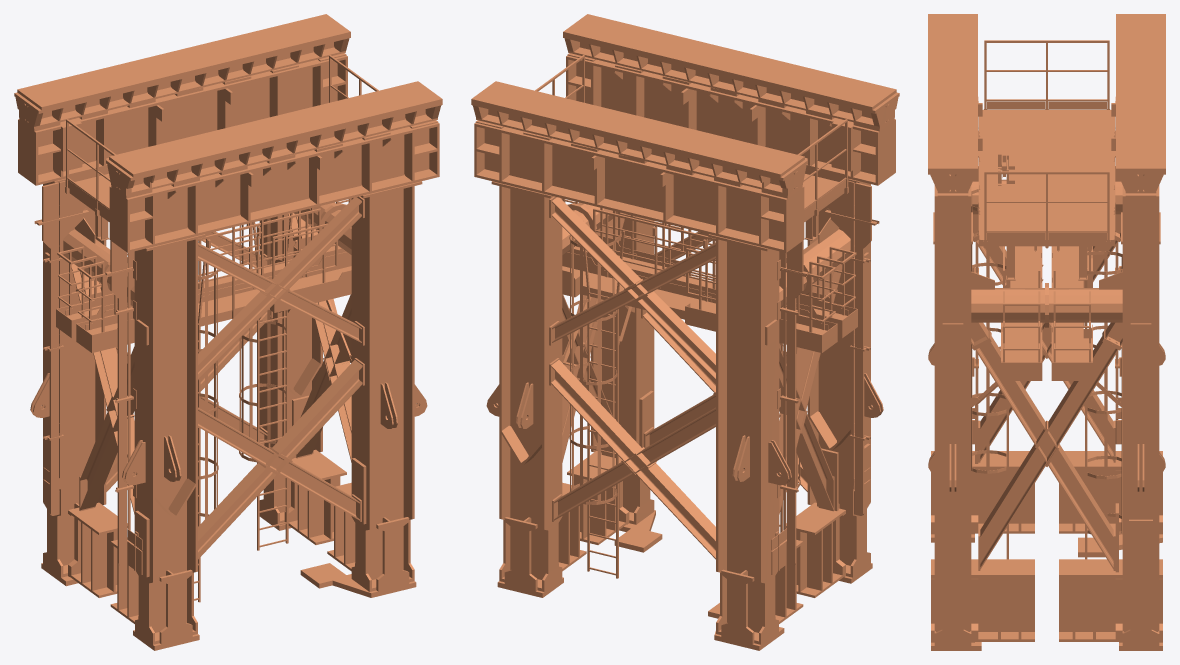
Rendered from HF-Truck-SideA-cut3.glb.
3 renders of one model, left to right at view 1: azimuth 30°, elevation 25°; view 2: azimuth 150°, elevation 25°; view 3: azimuth 270°, elevation 25°, orthographic. The views are drawn at different scales.
Visible parts, largest first — view 1: HF Truck Side A; view 2: HF Truck Side A; view 3: HF Truck Side A.
Boxes of the visible parts, x1,y1,x2,y2 form: HF Truck Side A: [14, 14, 442, 650]; HF Truck Side A: [471, 14, 899, 650]; HF Truck Side A: [928, 14, 1165, 650].
Size of the model in its own units: 5.43 by 7.99 by 3.48.
